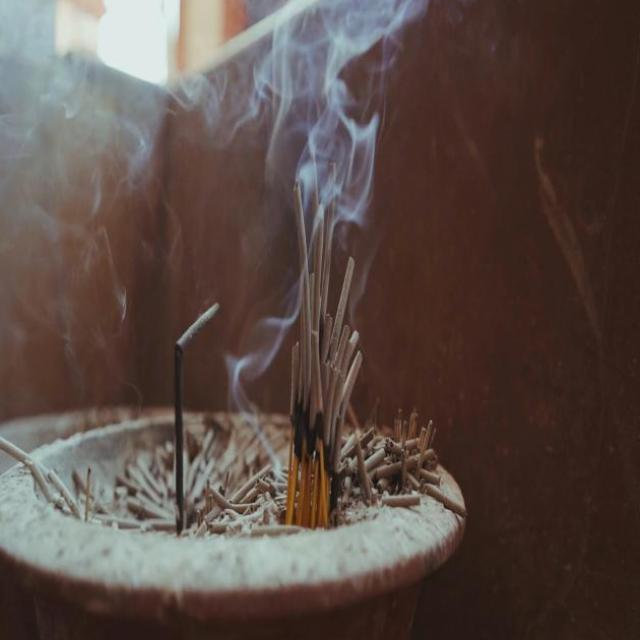fire: (131, 0, 432, 475)
